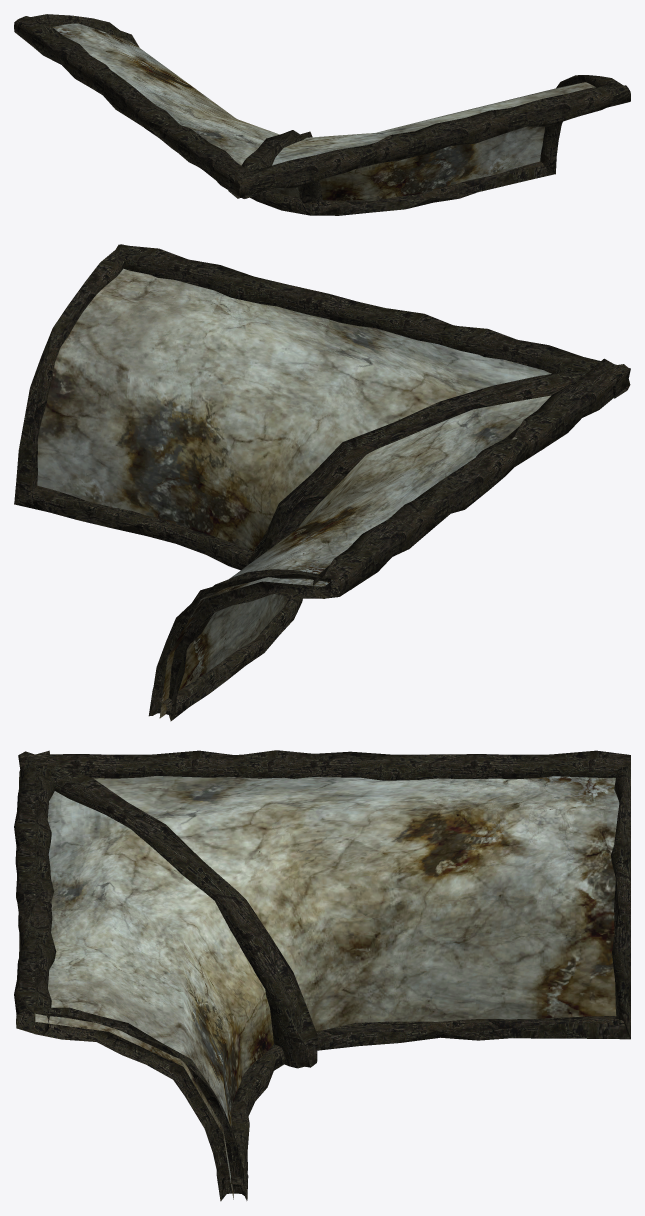
Rendered from corner_convex_round.dae.
3 renders of one model, top to bottom at view 1: azimuth 30°, elevation 25°; view 2: azimuth 150°, elevation 25°; view 3: azimuth 270°, elevation 25°, orthographic. The views are drawn at different scales.
Parts seen in each view (by area): view 1: polySurface82, polySurface46; view 2: polySurface46, polySurface82; view 3: polySurface46, polySurface82.
Part boxes in pixels (<box>): polySurface82: <box>14,14,630,215</box>; polySurface46: <box>52,23,595,200</box>; polySurface46: <box>37,268,551,718</box>; polySurface82: <box>14,244,630,721</box>; polySurface46: <box>35,776,619,1199</box>; polySurface82: <box>14,750,630,1201</box>.
Size of the model in its own units: 6.21 by 2.16 by 6.21.
